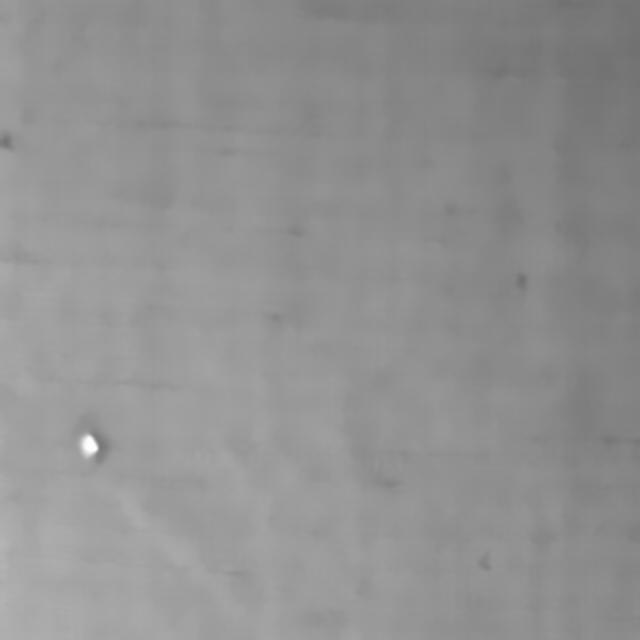seam: (23, 390, 131, 520)
